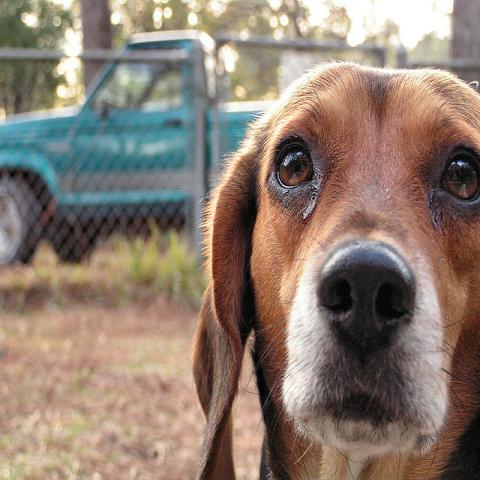truck: (0, 28, 278, 269)
